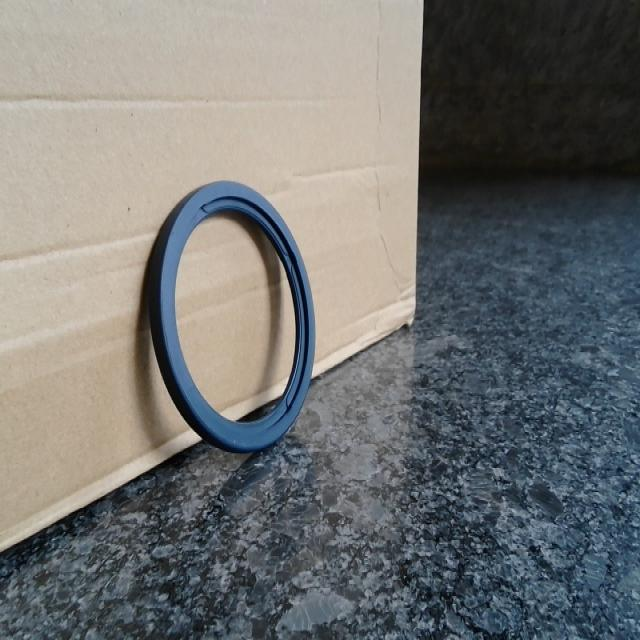cobalt-blue-ring: (148, 182, 315, 452)
